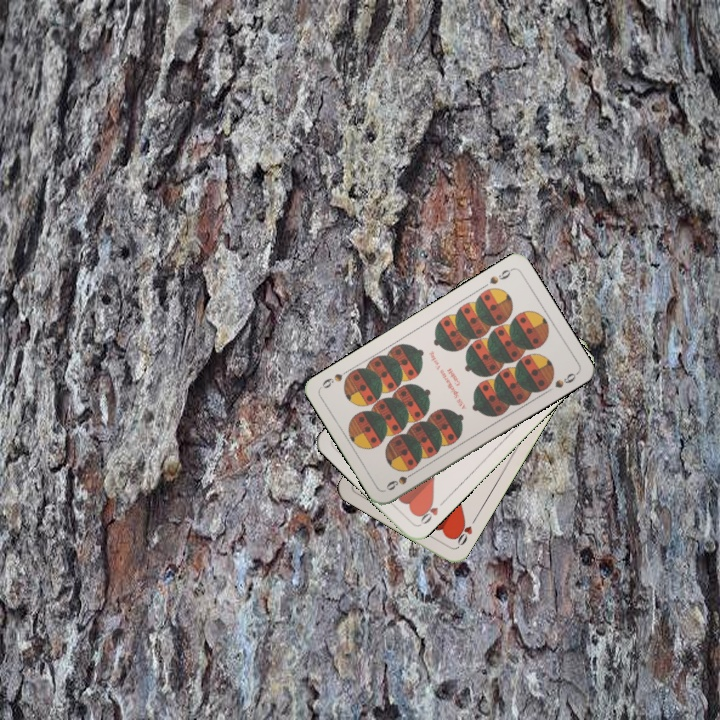HO: (414, 496, 448, 528), (450, 513, 479, 550)
S9: (382, 467, 419, 493), (485, 264, 515, 287)
